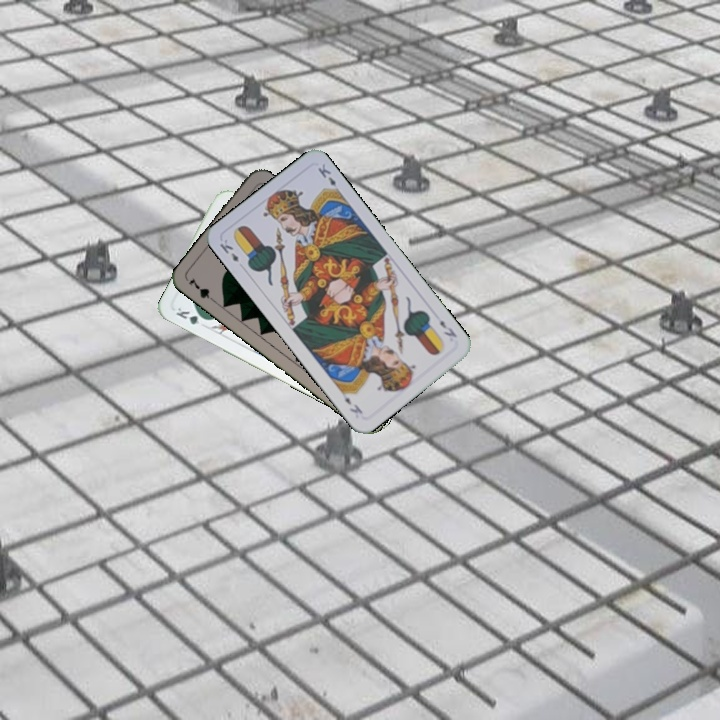EK: (216, 235, 242, 265), (435, 316, 460, 340)
G7: (185, 273, 219, 306)
GK: (172, 303, 211, 328)
